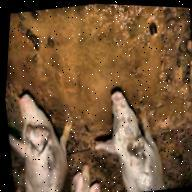boar: (83, 85, 171, 192), (0, 87, 84, 192), (65, 163, 102, 192)
